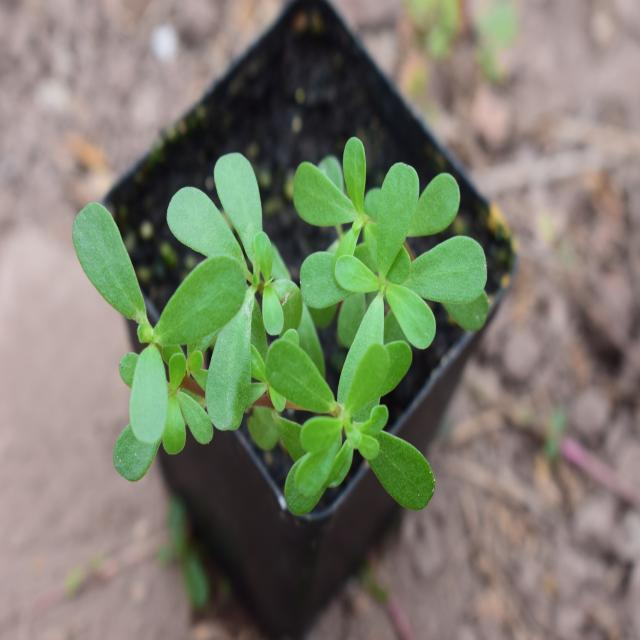purslane: (71, 140, 477, 510)
